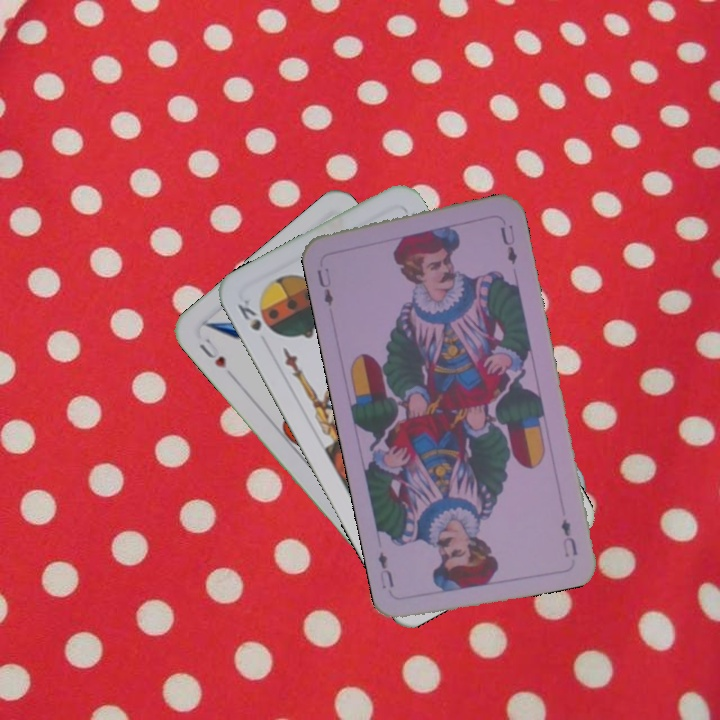EU: (312, 263, 336, 309), (557, 515, 580, 560)
HU: (195, 333, 229, 371)
SK: (233, 295, 264, 334)
